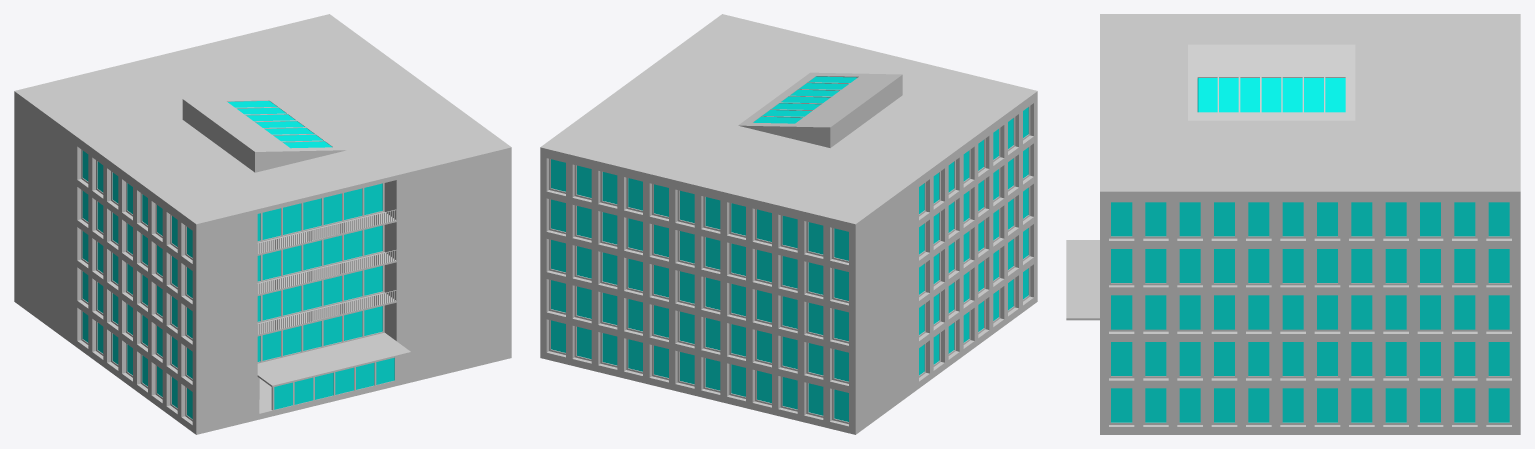
The model's file is E-BuildingWorkInProgress.fbx.
The picture shows the model from 3 angles, left to right: view 1: azimuth 30°, elevation 25°; view 2: azimuth 150°, elevation 25°; view 3: azimuth 270°, elevation 25°; orthographic projection. The views are drawn at different scales.
Parts seen in each view (by area): view 1: E-building-workinprogress-stl, Wiondows; view 2: E-building-workinprogress-stl, Wiondows; view 3: E-building-workinprogress-stl, Wiondows.
Boxes of the visible parts, x1=… form: E-building-workinprogress-stl: x1=14, y1=14, x2=511, y2=434; Wiondows: x1=82, y1=101, x2=394, y2=418; E-building-workinprogress-stl: x1=540, y1=14, x2=1037, y2=434; Wiondows: x1=551, y1=76, x2=1028, y2=421; E-building-workinprogress-stl: x1=1066, y1=14, x2=1520, y2=434; Wiondows: x1=1111, y1=78, x2=1509, y2=422.
Bounding box in the file's own units: 2868 × 2010 × 3098.
